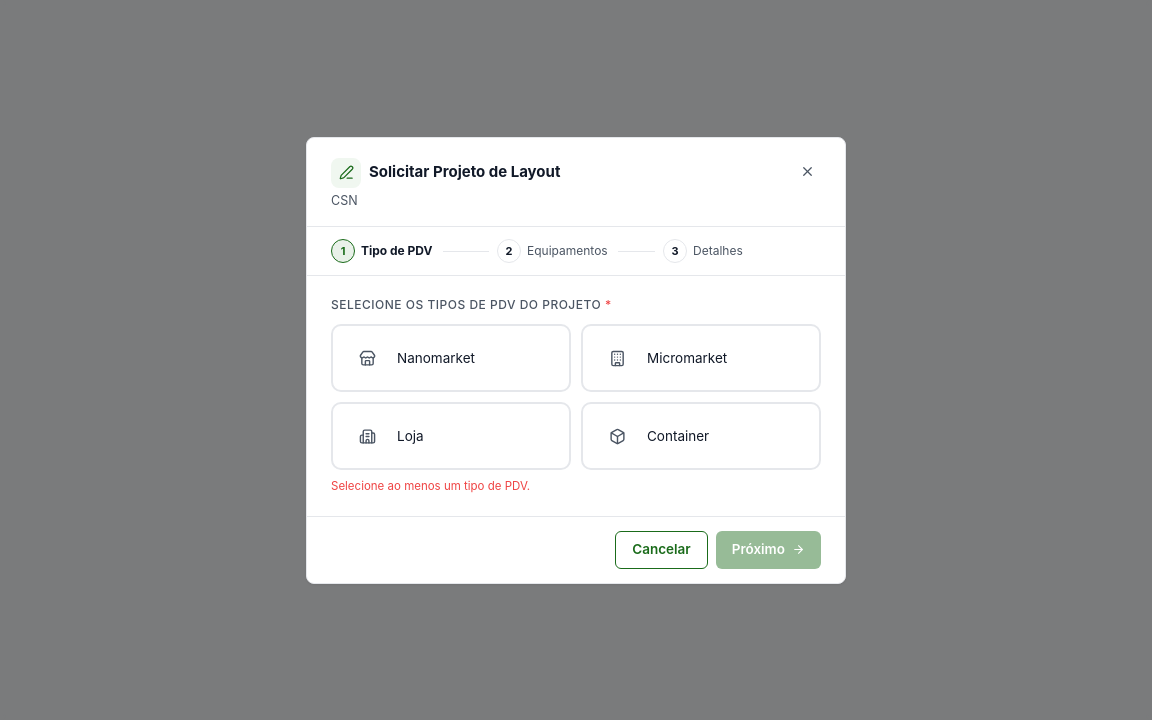
Scenario: ProjectRequestModal › o passo 3 oferece anexar fotos e vídeos (não é mais "em breve")
The width and height of the screenshot is (1152, 720).
Click the button "Nanomarket".
click(451, 358)  # box [331,324,571,392]
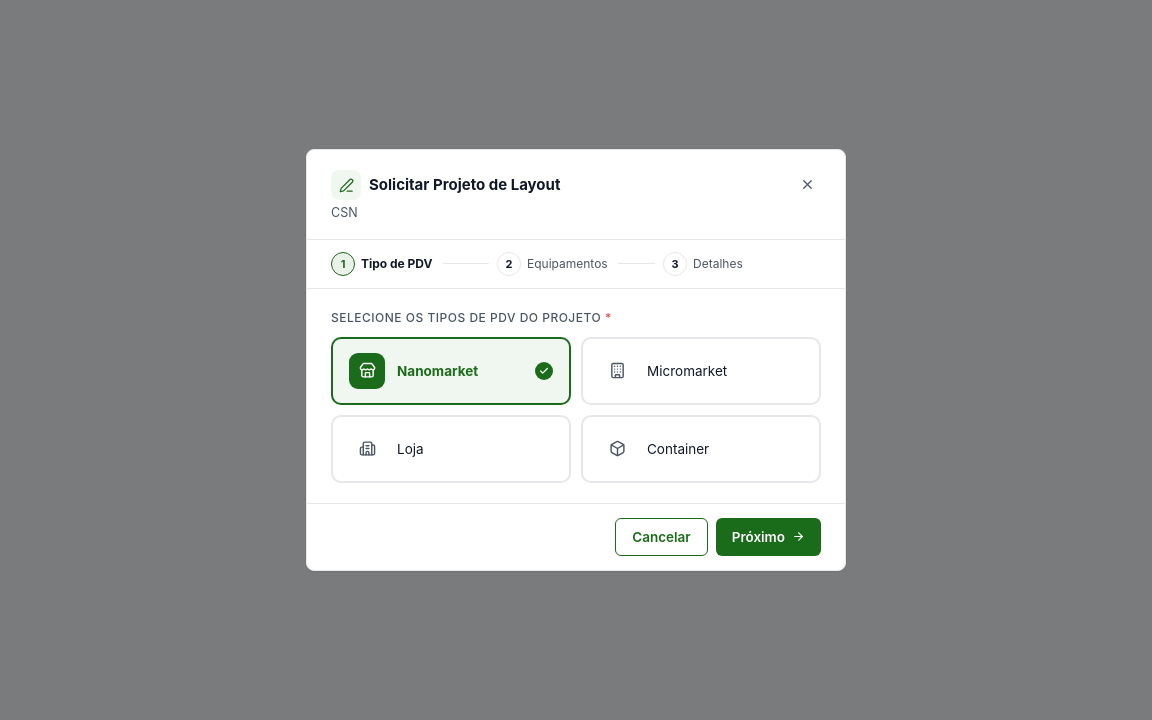
Click the button "Próximo".
click(768, 537)  # box [716,518,821,556]
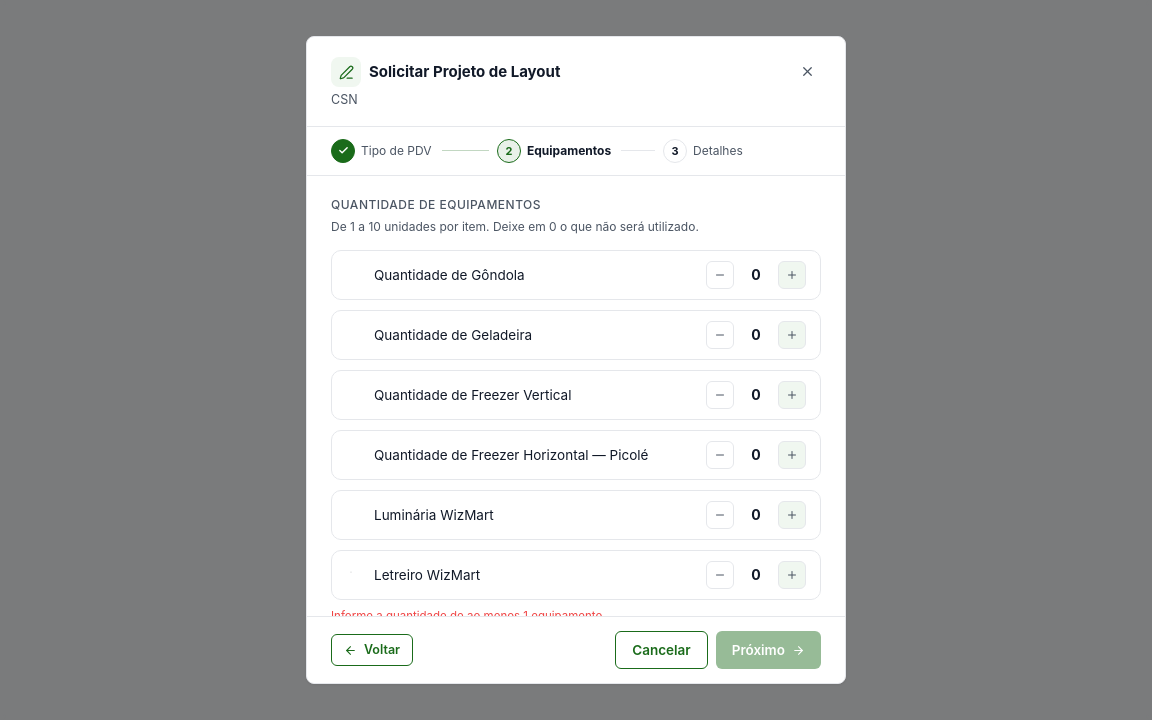
Click the button named "Aumentar Quantidade de Gôndola".
click(792, 275)  # box [778,261,806,289]
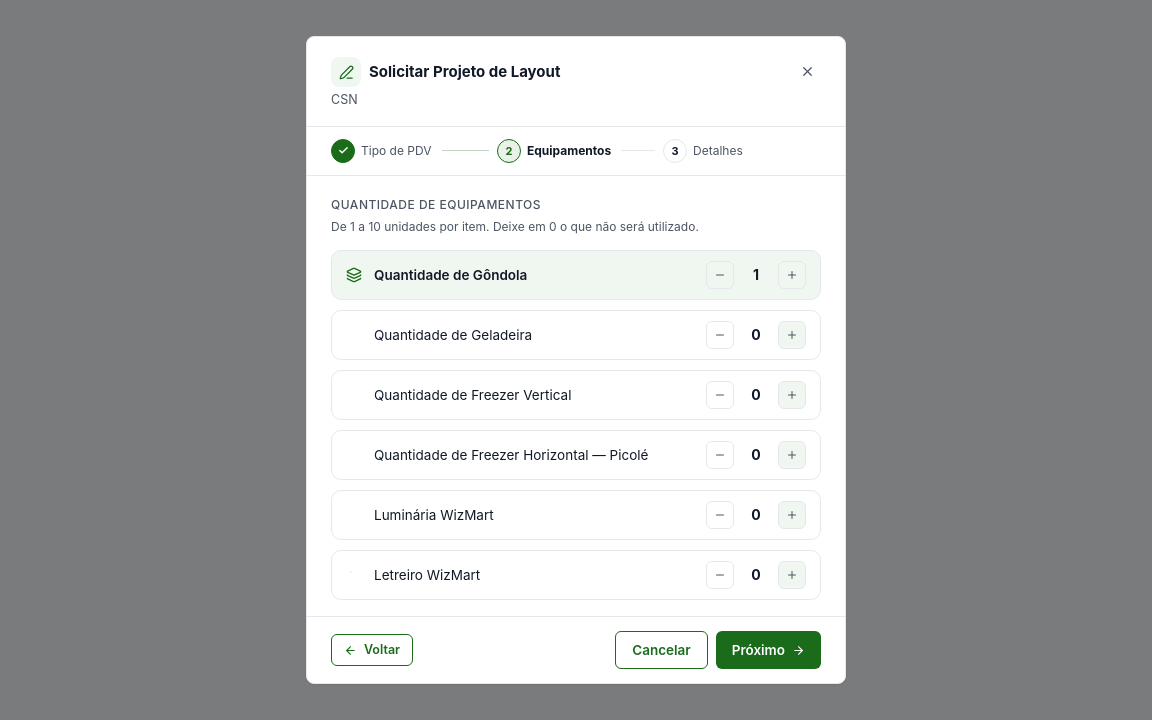
Click the button "Próximo".
click(768, 650)  # box [716,631,821,669]
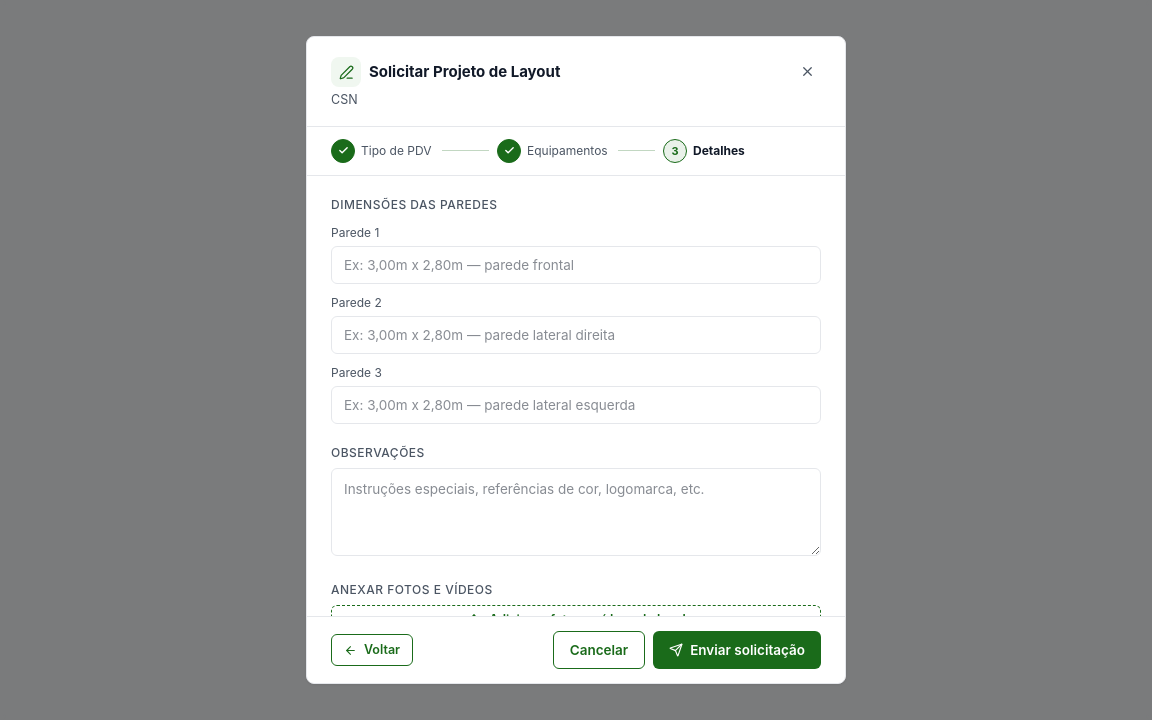
expect the text "Anexar fotos e vídeos" is shown: met, box [331,582,493,597]
